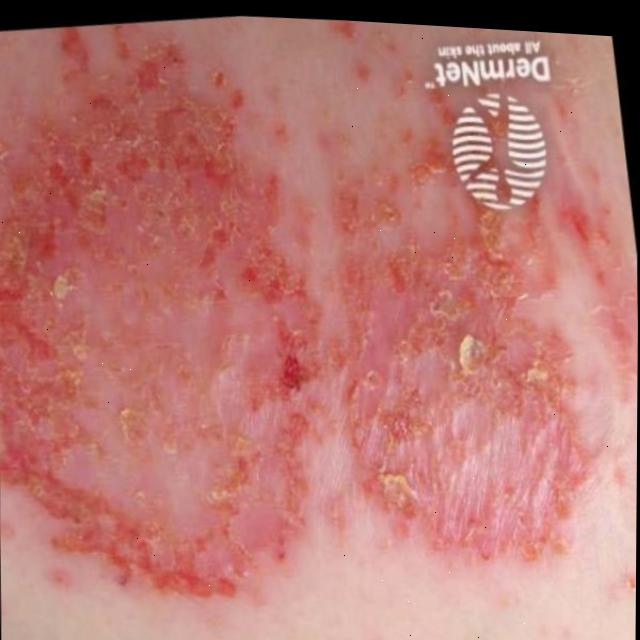Eczema: (0, 64, 574, 592)
